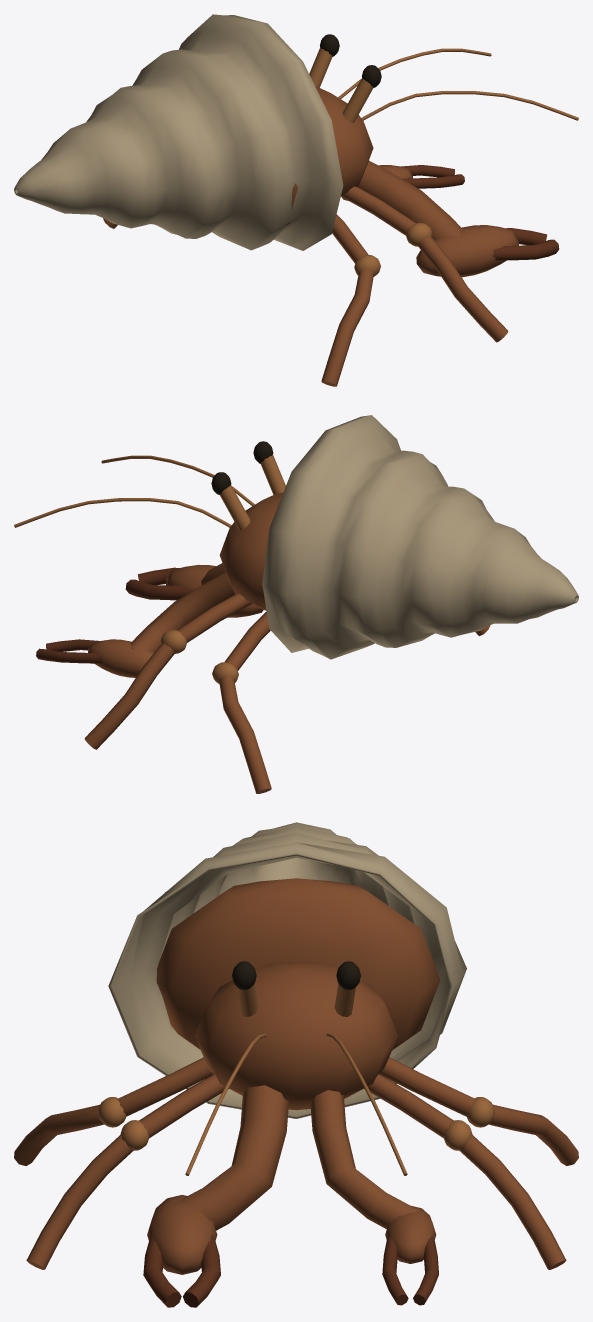
File: A-NEW-20261026-HERMIT-CRAB-001_LOD2_R5.fbx
3 views of the same model, one above another, from view 1: azimuth 30°, elevation 25°; view 2: azimuth 150°, elevation 25°; view 3: azimuth 270°, elevation 25° (orthographic). The views are drawn at different scales.
Visible parts, largest first — view 1: occupied spiral shell hollow wall and lip, walking leg -1 0, claw arm -1, claw palm -1, walking leg -1 1, front shield, pincer finger -1 -1, antenna -1, eye stalk -1, pincer finger 1 -1, antenna 1, eye stalk 1 (+1 smaller); view 2: occupied spiral shell hollow wall and lip, front shield, walking leg 1 0, walking leg 1 1, claw arm 1, claw palm 1, claw palm -1, pincer finger -1 1, antenna 1, pincer finger 1 1, eye stalk 1, eye stalk -1 (+2 smaller); view 3: retracted abdomen inside aperture, occupied spiral shell hollow wall and lip, front shield, claw arm -1, claw arm 1, walking leg -1 0, walking leg 1 0, walking leg -1 1, walking leg 1 1, claw palm -1, claw palm 1, pincer finger -1 -1 (+9 smaller).
Boxes of the visible parts, x1,y1,x2,y2 form: occupied spiral shell hollow wall and lip: (14, 14, 343, 250); walking leg -1 0: (341, 186, 508, 342); claw arm -1: (358, 160, 462, 239); claw palm -1: (416, 225, 518, 277); walking leg -1 1: (321, 214, 373, 386); front shield: (315, 86, 373, 195); pincer finger -1 -1: (493, 239, 559, 260); antenna -1: (361, 91, 578, 120); eye stalk -1: (342, 78, 373, 122); pincer finger 1 -1: (402, 174, 464, 188); antenna 1: (338, 48, 491, 98); eye stalk 1: (309, 47, 332, 87); occupied spiral shell hollow wall and lip: (262, 415, 578, 659); front shield: (219, 492, 282, 610); walking leg 1 0: (84, 593, 252, 749); walking leg 1 1: (219, 611, 271, 793); claw arm 1: (130, 572, 234, 652); claw palm 1: (88, 639, 154, 677); claw palm -1: (166, 565, 263, 617); pincer finger -1 1: (125, 579, 191, 600); antenna 1: (14, 498, 231, 527); pincer finger 1 1: (36, 648, 102, 663); eye stalk 1: (220, 485, 250, 529); eye stalk -1: (260, 454, 285, 494); retracted abdomen inside aperture: (156, 878, 440, 1050); occupied spiral shell hollow wall and lip: (108, 822, 466, 1118); front shield: (194, 961, 398, 1110); claw arm -1: (174, 1085, 288, 1230); claw arm 1: (310, 1090, 417, 1229); walking leg -1 0: (26, 1074, 228, 1269); walking leg 1 0: (364, 1074, 566, 1269); walking leg -1 1: (14, 1057, 212, 1165); walking leg 1 1: (380, 1057, 578, 1165); claw palm -1: (147, 1195, 217, 1274); claw palm 1: (385, 1206, 436, 1263); pincer finger -1 -1: (143, 1235, 181, 1307).
Bounding box in the file's own units: 29.95 × 15.3 × 22.75.
